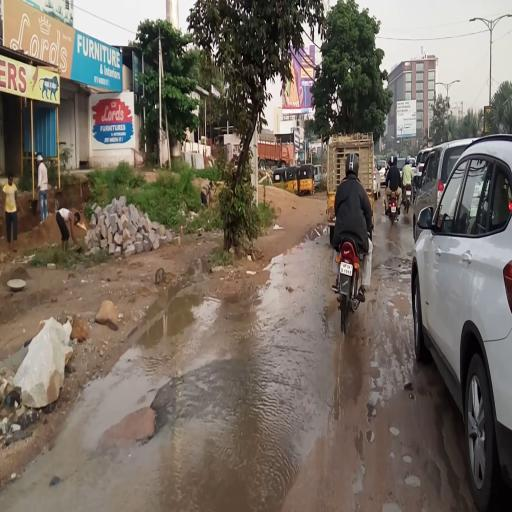street_light_0: (461, 8, 489, 34), (490, 8, 512, 32), (447, 72, 463, 90), (430, 71, 446, 89)
